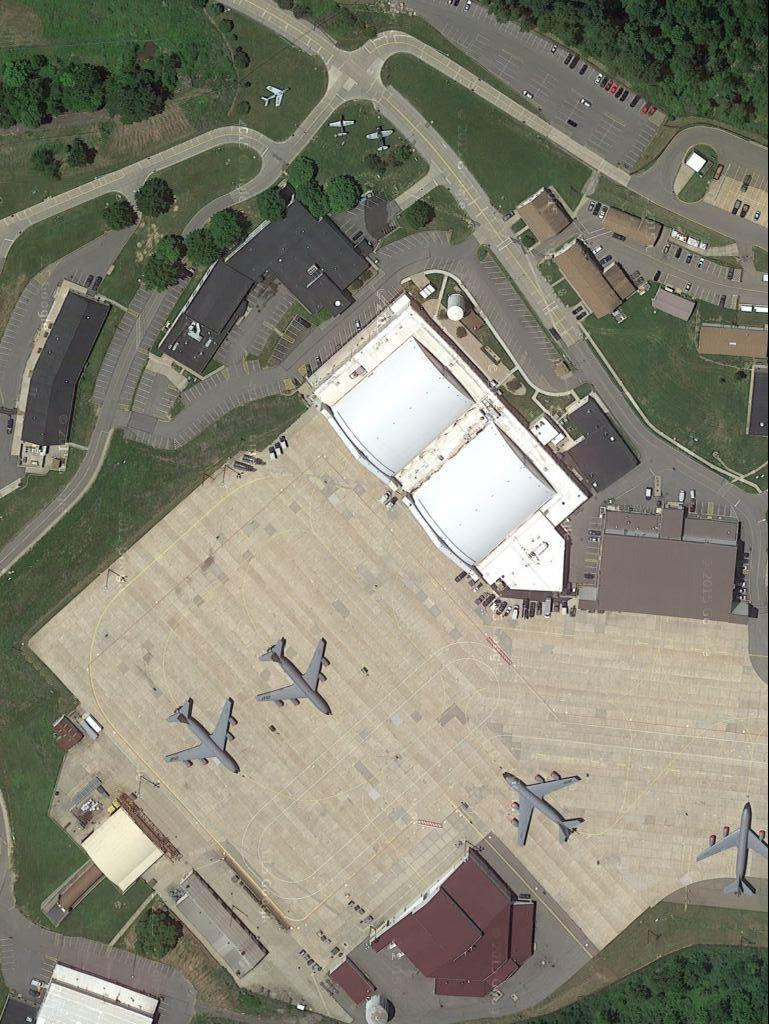KC-135: (500, 766, 589, 851), (253, 631, 333, 720), (160, 694, 244, 776), (698, 801, 763, 899)
